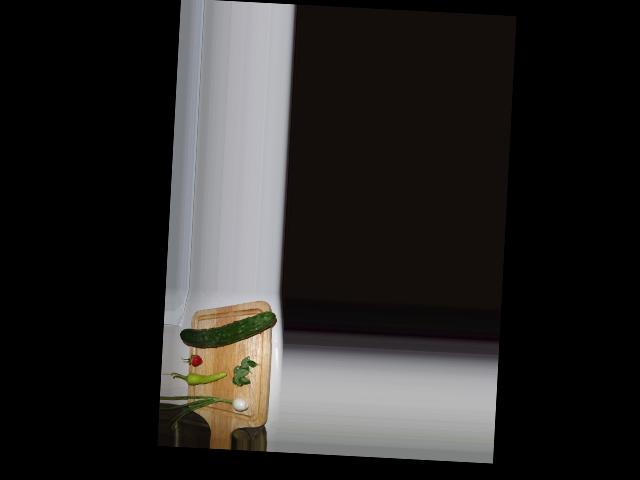cucumber: (180, 306, 276, 351)
